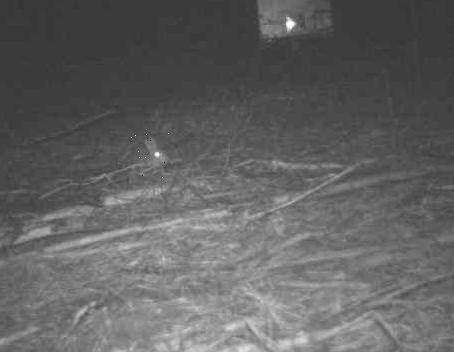Rabbit: (127, 132, 171, 179)
